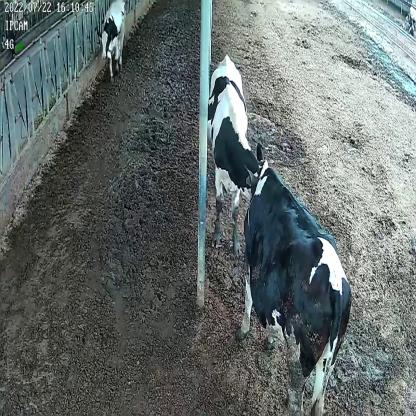cow: (239, 154, 352, 414), (209, 50, 263, 256), (100, 0, 128, 83)
